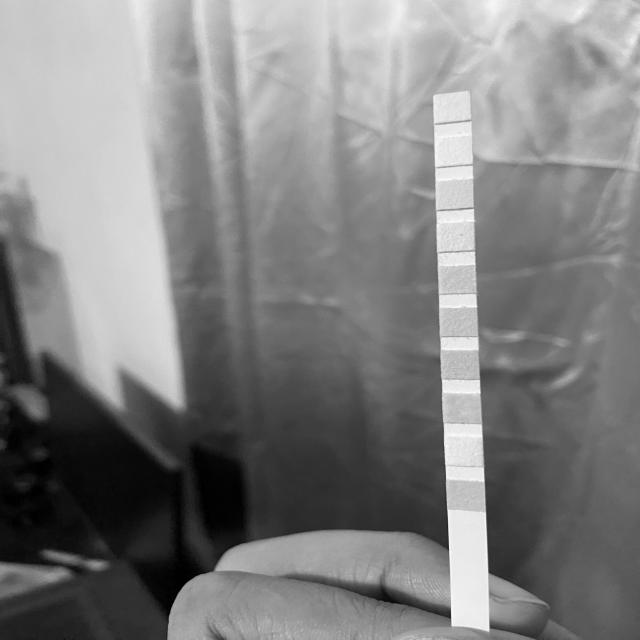Bilirubin: (447, 436, 483, 466)
Blood: (442, 308, 478, 336)
Glucose: (448, 481, 484, 508)
Ketone: (443, 394, 482, 424)
Leukocytes: (435, 95, 470, 120)
Nitrite: (436, 138, 472, 164)
Protein: (438, 224, 474, 249)
SpGravity: (442, 351, 479, 378)
Urobilinogen: (437, 182, 472, 208)
background: (0, 0, 640, 640)
pH: (440, 266, 476, 293)
strip: (433, 91, 490, 626)
